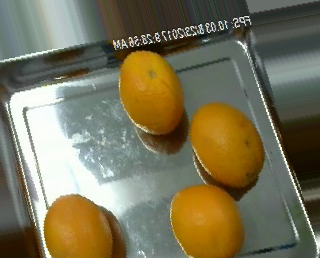Orange: (189, 102, 267, 188), (170, 184, 246, 258), (118, 50, 184, 134), (43, 194, 112, 258)
